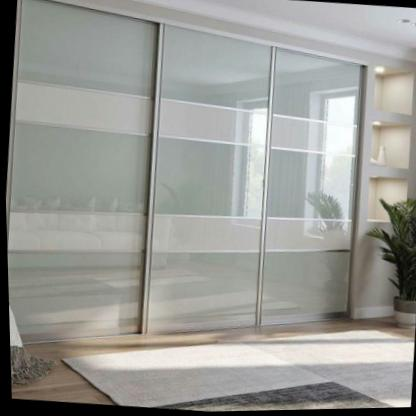Closet: (6, 0, 365, 344)
